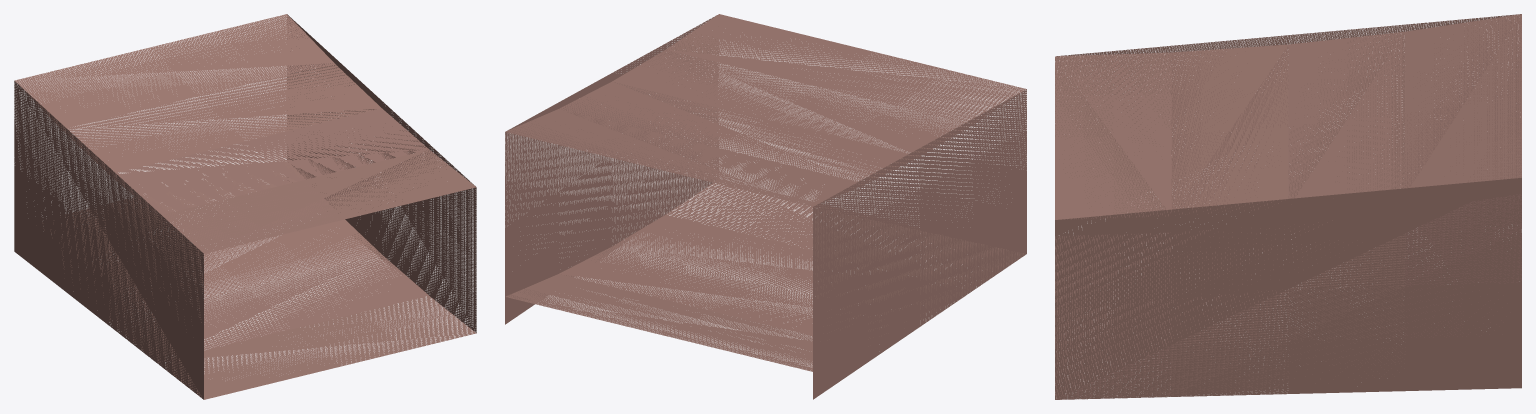
Rendered from SW_ENV_RailTunnel_Riser_A_Double_10m_Collision.fbx.
3 views of the same model, side by side, from view 1: azimuth 30°, elevation 25°; view 2: azimuth 150°, elevation 25°; view 3: azimuth 270°, elevation 25° (orthographic). The views are drawn at different scales.
Parts seen in each view (by area): view 1: SW_ENV_RailTunnel_Riser_A_Double_10m_Collision; view 2: SW_ENV_RailTunnel_Riser_A_Double_10m_Collision; view 3: SW_ENV_RailTunnel_Riser_A_Double_10m_Collision.
Part boxes in pixels (x1,y1,x2,y2): SW_ENV_RailTunnel_Riser_A_Double_10m_Collision: [14, 14, 476, 399]; SW_ENV_RailTunnel_Riser_A_Double_10m_Collision: [505, 14, 1026, 399]; SW_ENV_RailTunnel_Riser_A_Double_10m_Collision: [1055, 14, 1521, 399].
Bounding box in the file's own units: 8.3 × 5.25 × 10.
